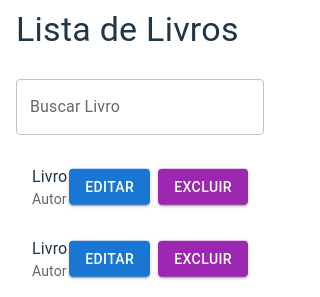
Scenario: BookList Component › deve filtrar os livros com base na busca
Expected: the text "Livro 1" is shown, [32,167,81,186]
# Simula a busca
Type "Livro 1" into the field labelled "Buscar Livro" at (140, 107), box [16,79,264,135]
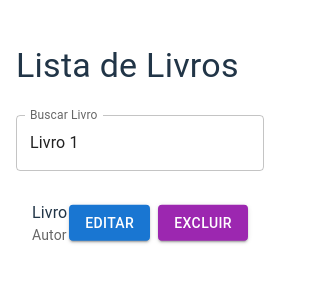
Expected: the text "Livro 1" is shown, [32,203,81,222]
Expected: the text "Livro 2" is gone
